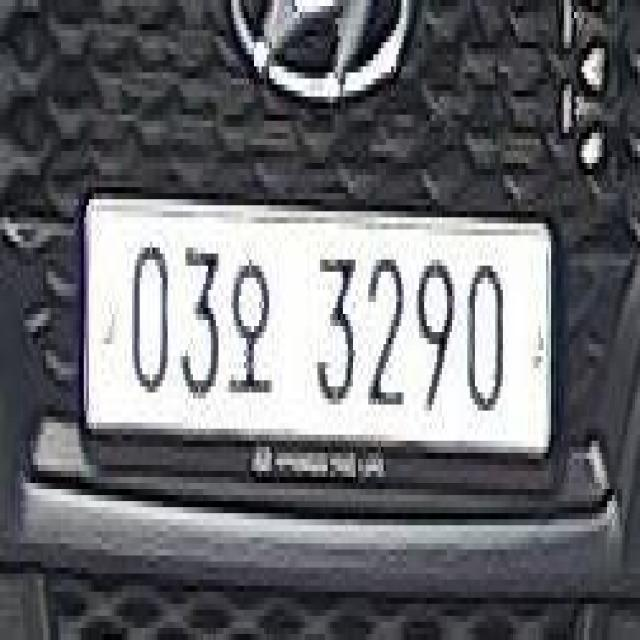illegal_plate: (81, 186, 559, 504)
